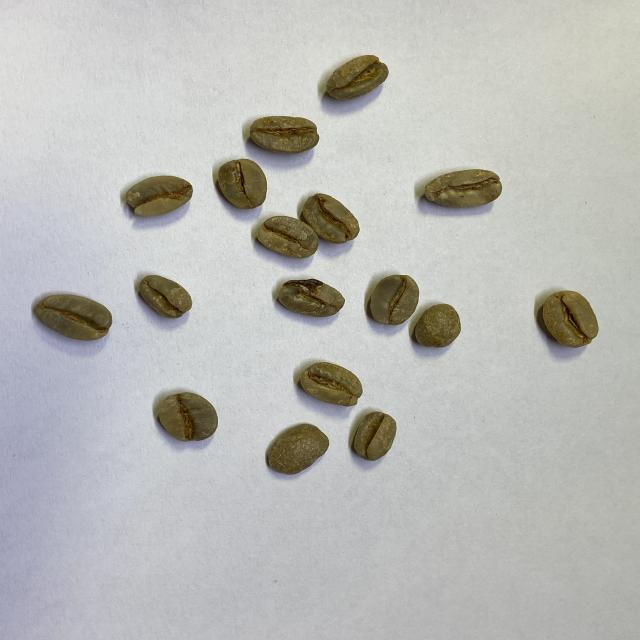bad: (124, 174, 193, 218), (299, 361, 363, 407), (276, 278, 346, 320)
good: (35, 292, 112, 342), (265, 423, 330, 475), (540, 290, 598, 348), (155, 390, 219, 442), (324, 53, 389, 104), (252, 214, 320, 262), (302, 192, 360, 244), (426, 169, 502, 208), (250, 114, 320, 155), (216, 157, 268, 212), (367, 273, 420, 325), (137, 274, 193, 321), (414, 302, 462, 349), (351, 411, 396, 461)
